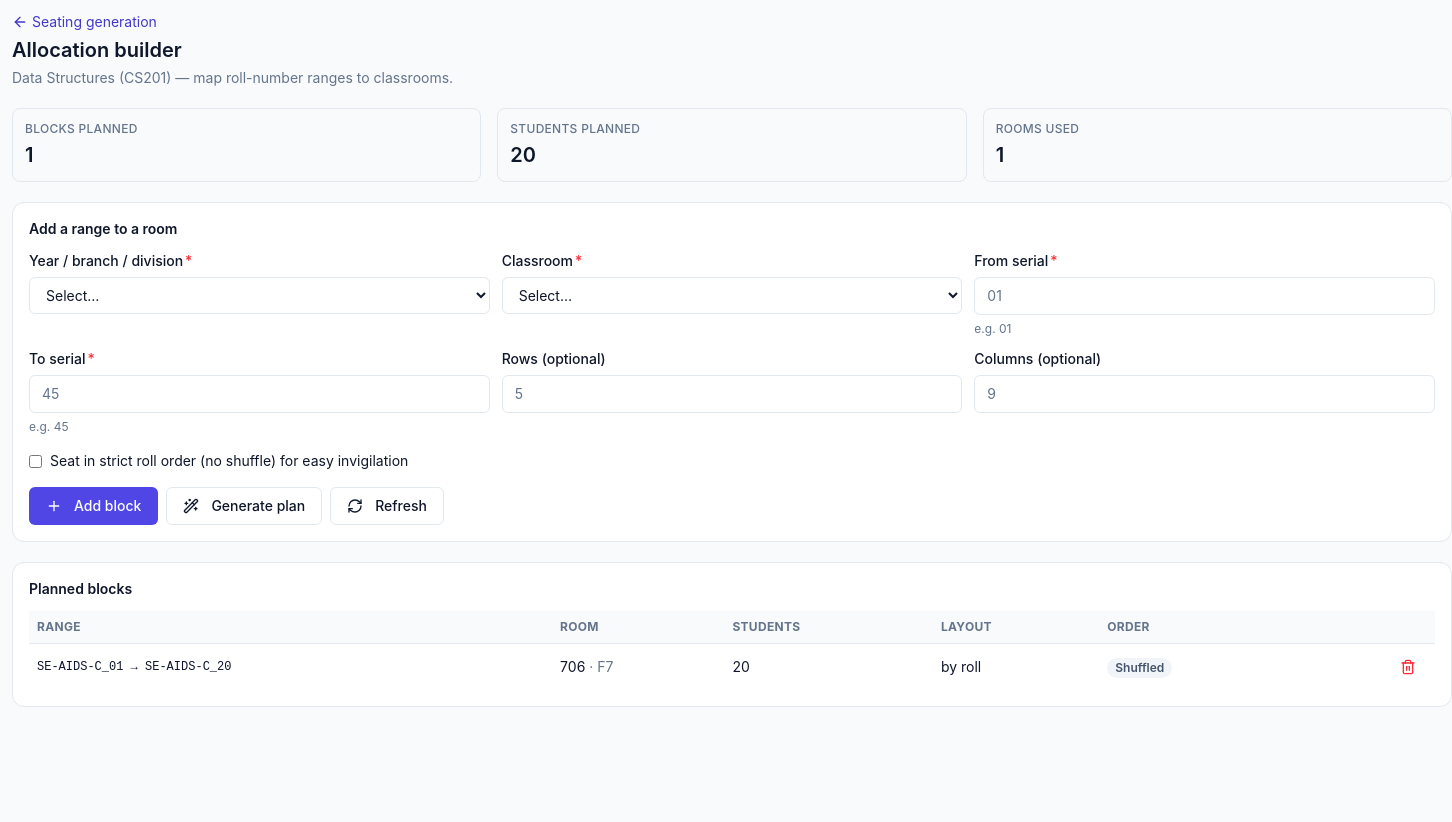
Test case: AllocationBuilderPage › generates with replace=true and reports the outcome
Check: the text "SE-AIDS-C_01 → SE-AIDS-C_20" is shown, box [29,644,552,690]
Click the button "Generate plan" at [244, 506], box [166,487,322,525]
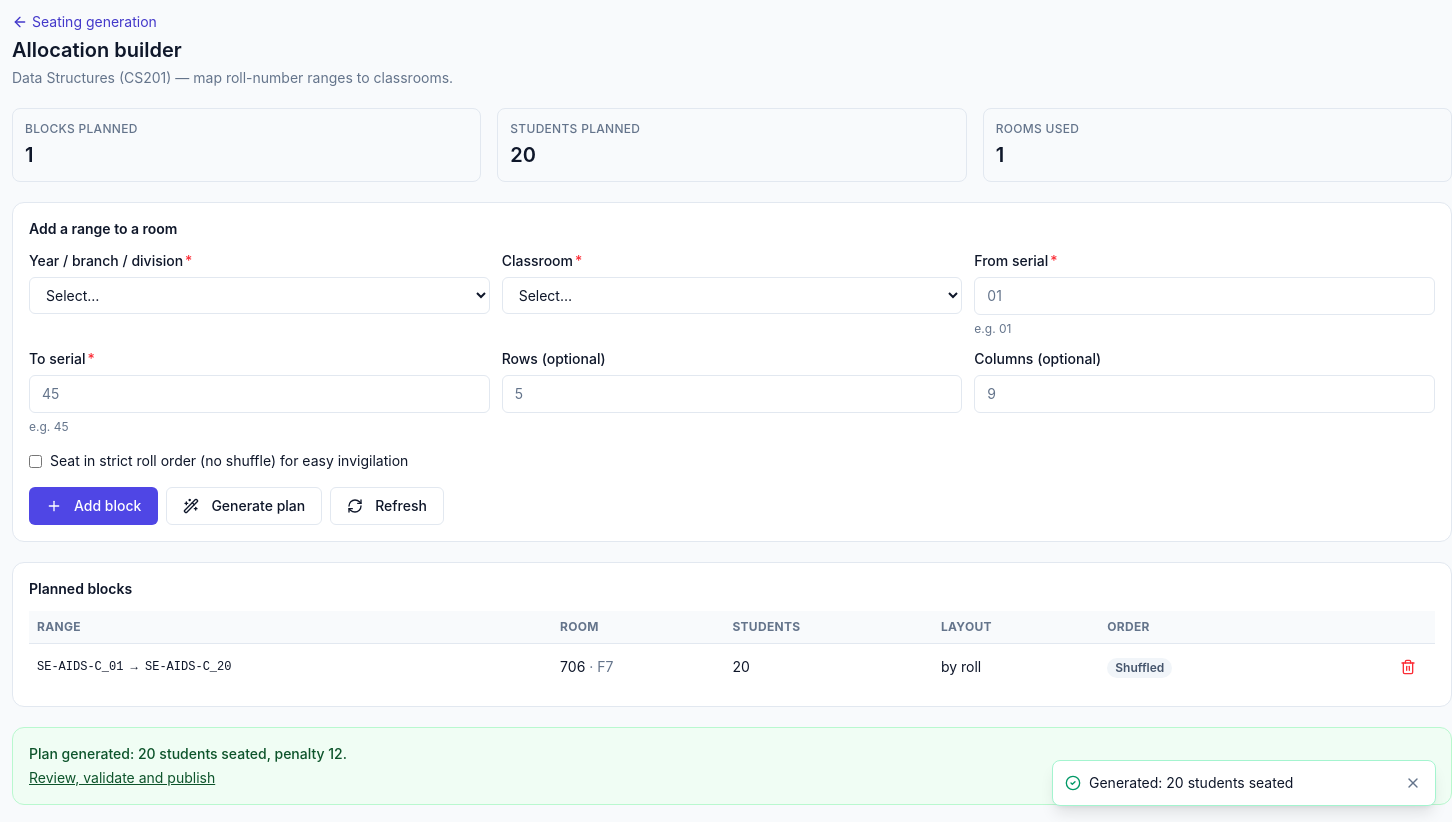
Check: the text "Plan generated: 20 students seated, penalty 12." is shown, box [29,745,347,762]
